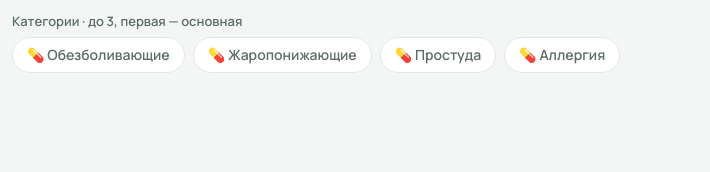
Scenario: выбирает до трёх категорий в порядке нажатия, первая — основная
Click the button "💊 Простуда" at (438,55), box left=380, top=37, right=496, bottom=73
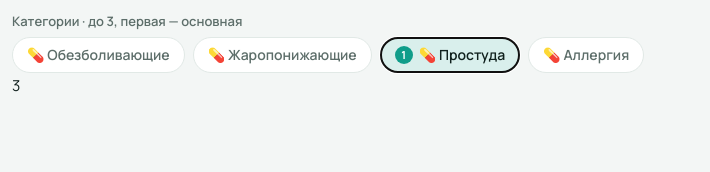
Click the button "💊 Обезболивающие" at (98,55), box left=12, top=37, right=185, bottom=73
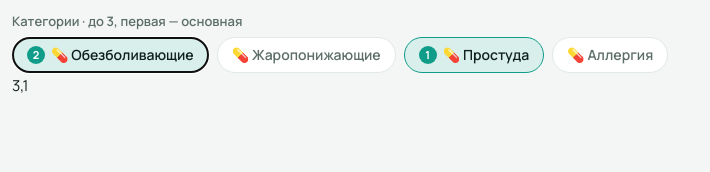
Click the button "💊 Аллергия" at (610,55), box left=552, top=37, right=668, bottom=73
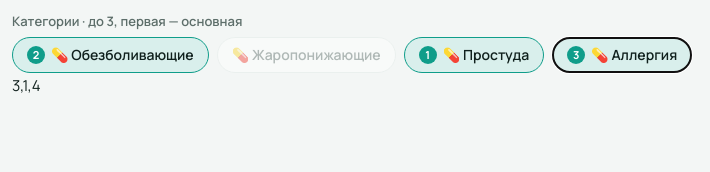
Expected: the button "1 💊 Простуда" is shown
Expected: the text "3,1,4" is shown, left=12, top=75, right=41, bottom=96
Expected: the button "💊 Жаропонижающие" is disabled, left=217, top=37, right=396, bottom=73
Click the button "1 💊 Простуда" at (474,55), box left=404, top=37, right=544, bottom=73
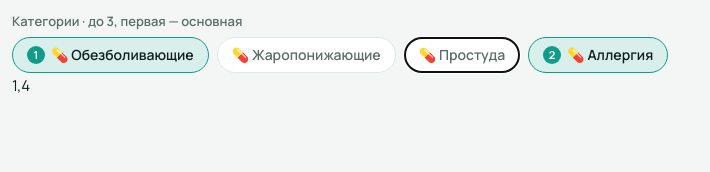
Expected: the text "1,4" is shown, left=12, top=75, right=30, bottom=96
Expected: the button "💊 Жаропонижающие" is enabled, left=217, top=37, right=396, bottom=73
